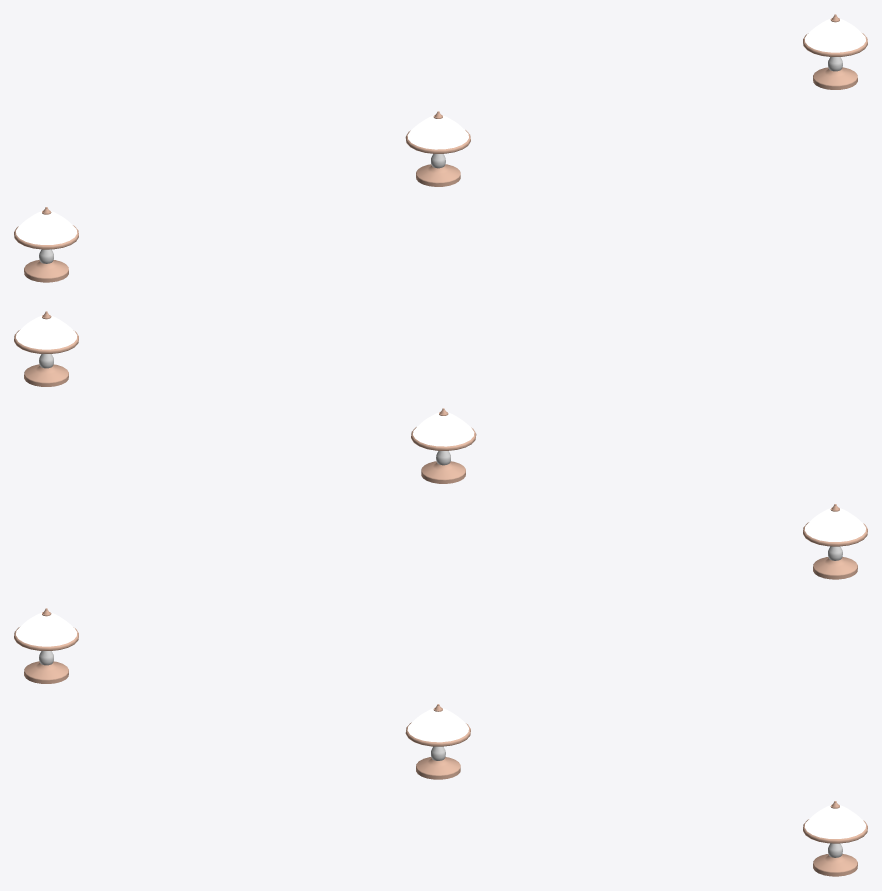
Rendered from BAR-LAMP.glb.
3 views of the same model, one above another, from view 1: azimuth 30°, elevation 25°; view 2: azimuth 150°, elevation 25°; view 3: azimuth 330°, elevation 25° (orthographic).
Visible parts, largest first — view 1: BAR-LAMPS; view 2: BAR-LAMPS; view 3: BAR-LAMPS.
Part boxes in pixels (x1,y1,x2,y2): BAR-LAMPS: [14, 14, 867, 282]; BAR-LAMPS: [14, 311, 867, 579]; BAR-LAMPS: [14, 608, 867, 876].
Bounding box in the file's own units: 5.52 × 0.4114 × 0.3703.
